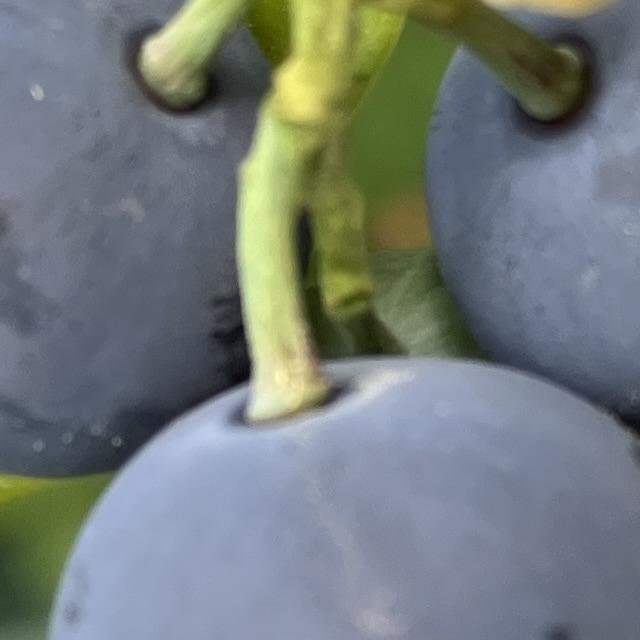Blueberries: (0, 0, 390, 481), (40, 350, 640, 640), (418, 0, 640, 439)
